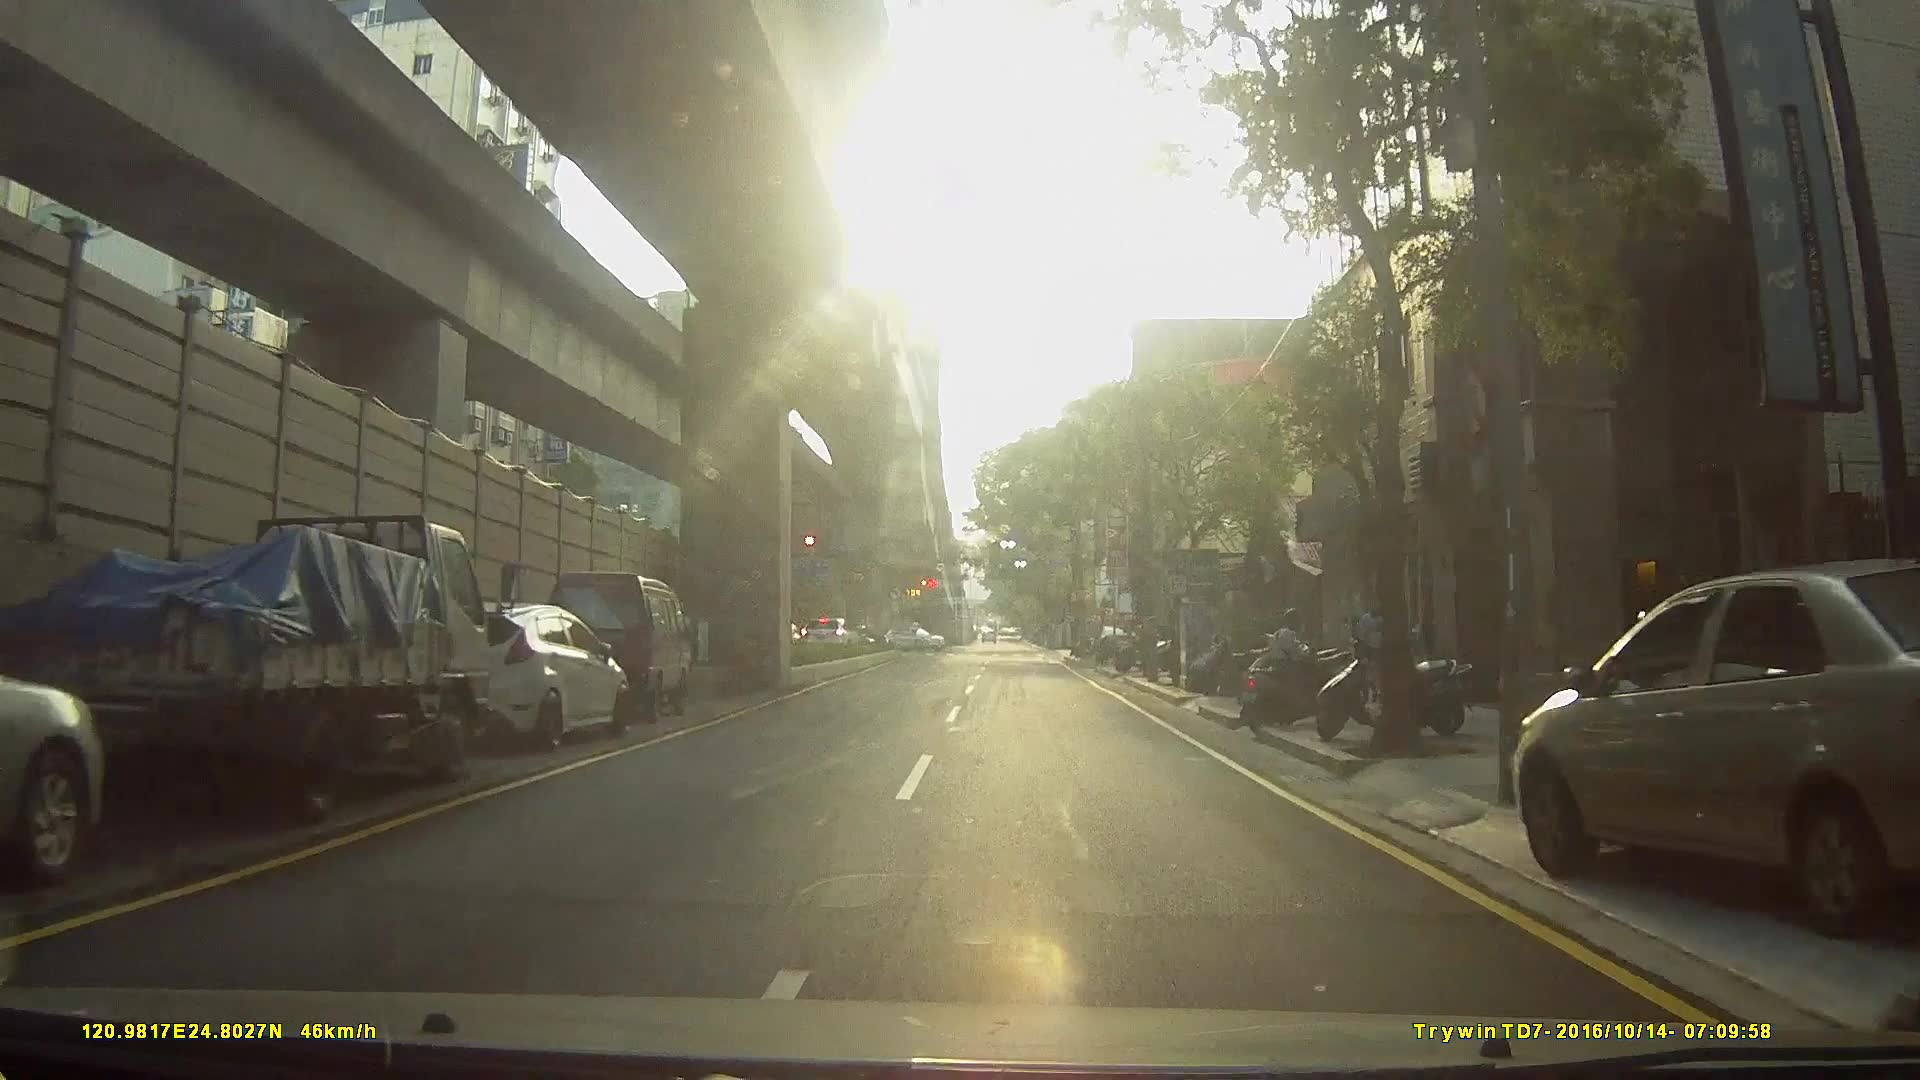rider: (1237, 609, 1353, 736)
vehicle: (1513, 535, 1920, 956), (22, 504, 537, 823), (396, 596, 624, 756), (1, 635, 121, 891), (531, 570, 686, 726), (795, 616, 859, 656), (1090, 625, 1136, 663), (881, 627, 942, 654)
